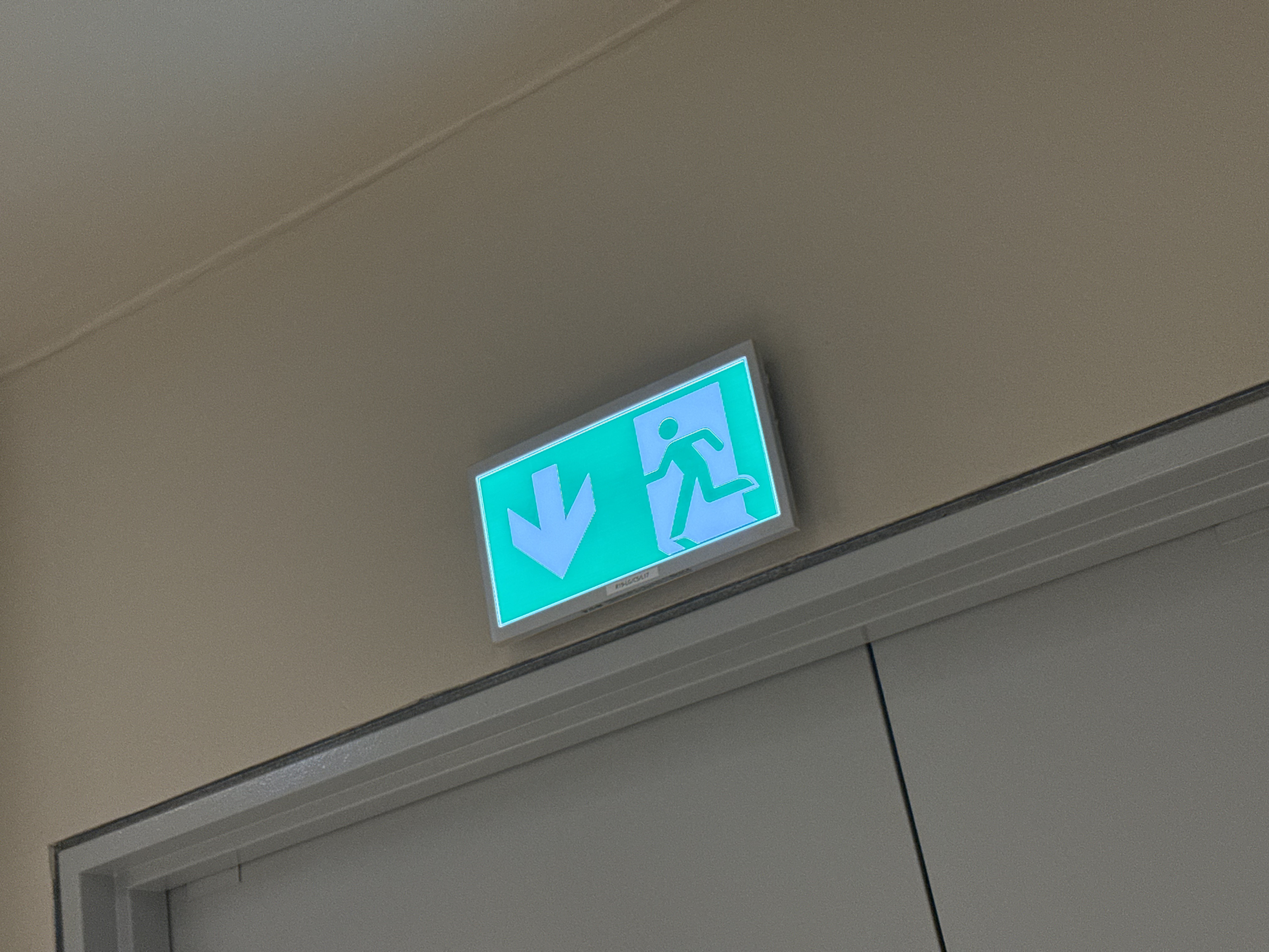emergency_exit: (468, 336, 800, 644)
